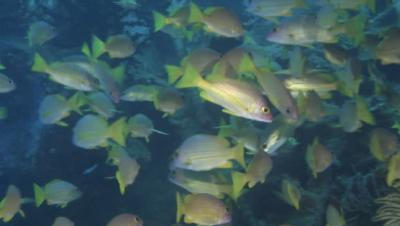Lutjanidae -Snappers-: (174, 58, 277, 121), (163, 129, 249, 169), (28, 50, 101, 96)
